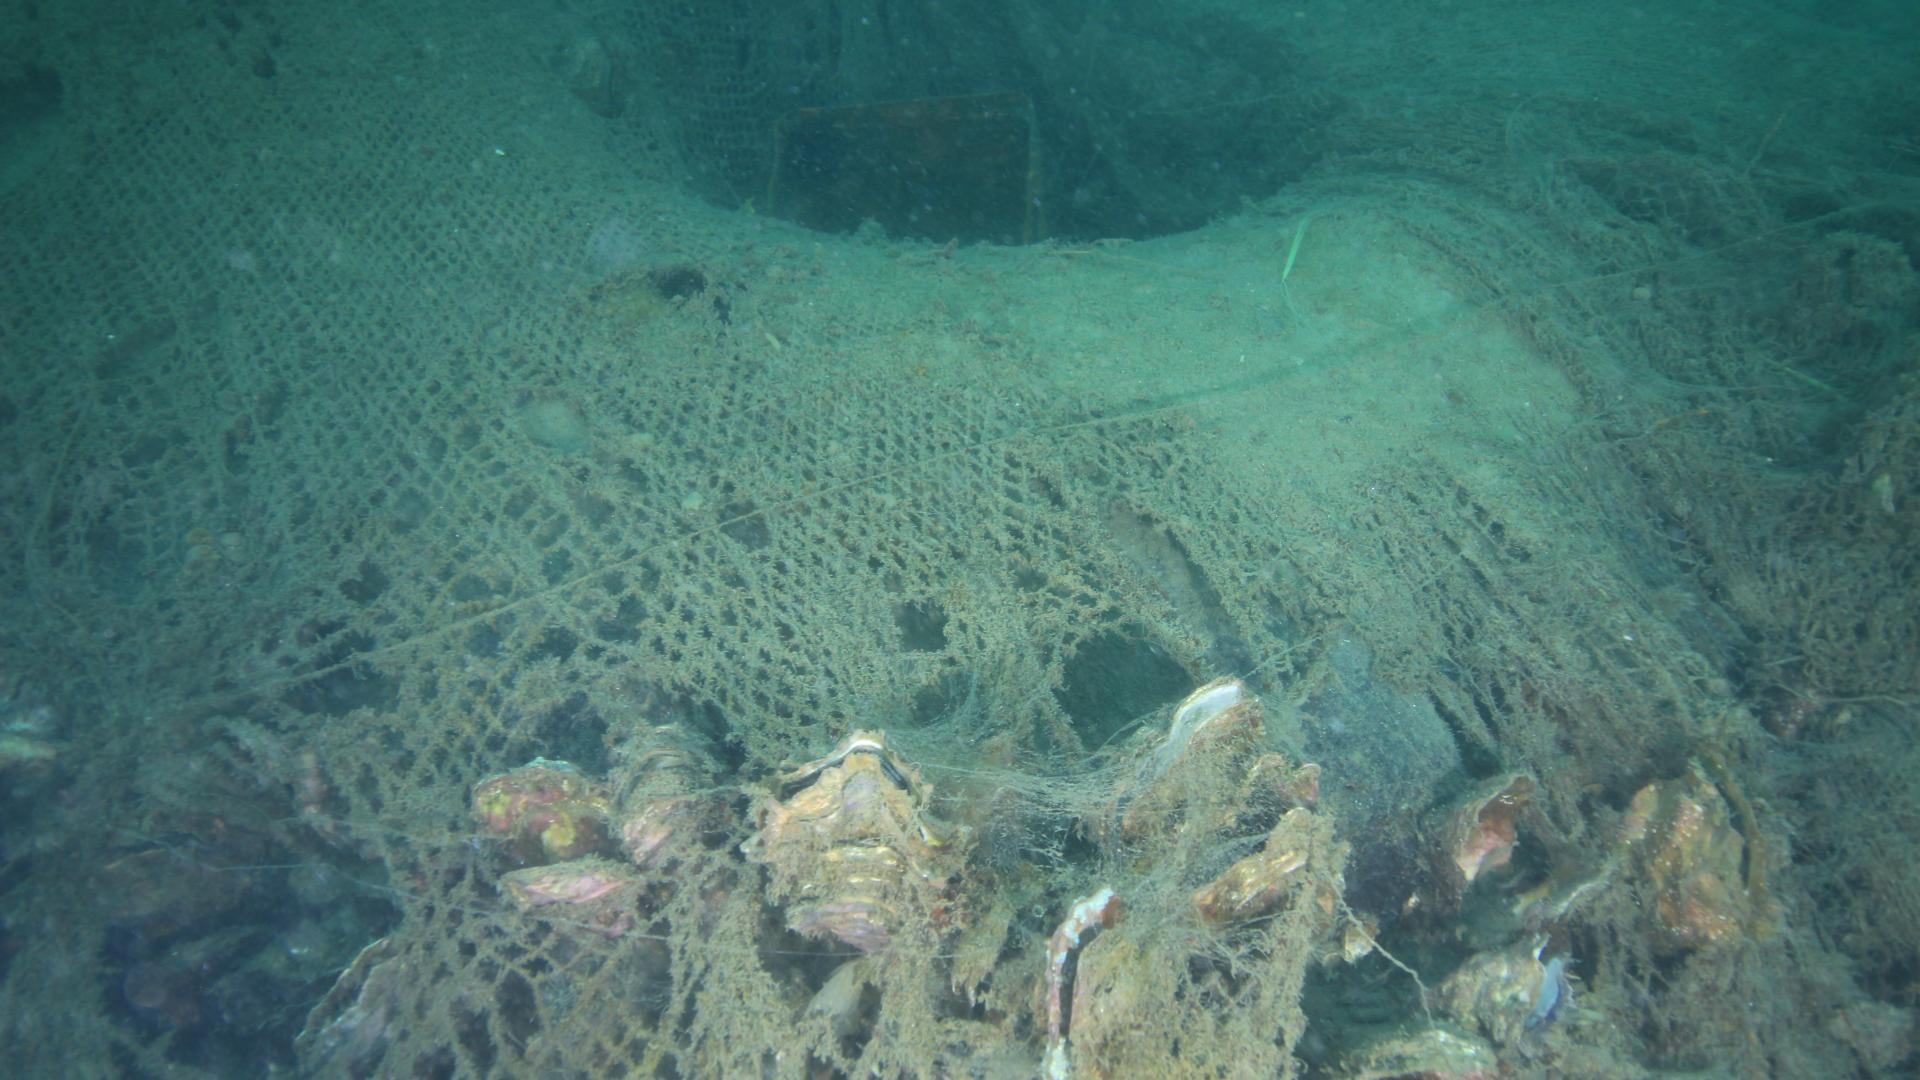fish net: (0, 0, 1340, 1080), (1626, 162, 1920, 703)
tire: (585, 0, 1758, 848)
